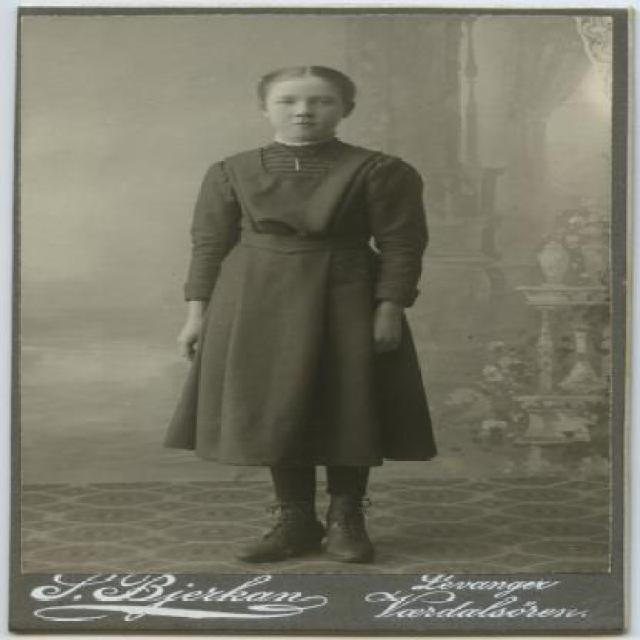Person: (164, 70, 447, 575)
